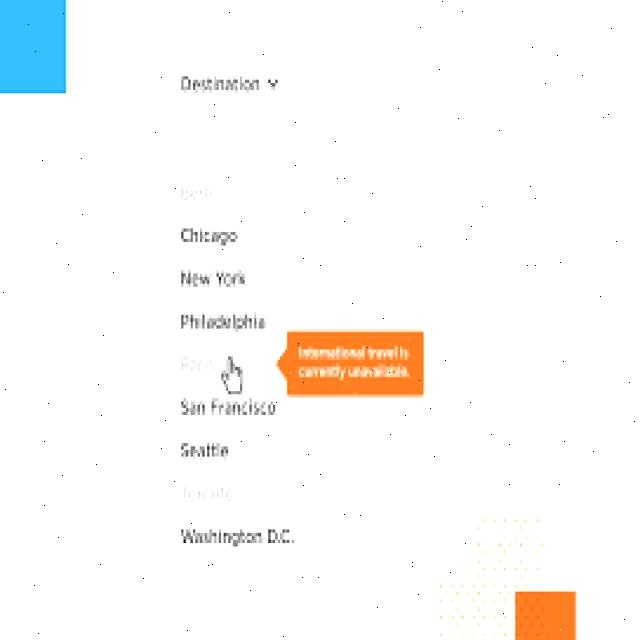dropdownMenu: (145, 39, 478, 588)
menuItem: (168, 519, 302, 553), (172, 389, 288, 421), (167, 173, 247, 210), (174, 306, 274, 334), (170, 218, 253, 248), (174, 262, 253, 292), (176, 476, 240, 509), (176, 344, 224, 383), (175, 434, 236, 464)
